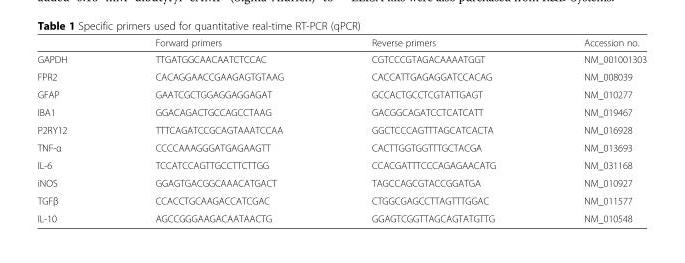table: (36, 36, 646, 223)
table column: (110, 36, 327, 223), (327, 36, 539, 223), (539, 36, 646, 223), (36, 36, 110, 223)
table column header: (36, 36, 646, 50)
table row: (36, 137, 646, 156), (36, 67, 646, 85), (36, 85, 646, 103), (36, 173, 646, 191), (36, 191, 646, 209), (36, 50, 646, 67), (36, 103, 646, 120), (36, 120, 646, 137), (36, 156, 646, 173), (36, 36, 646, 50), (36, 209, 646, 223)
